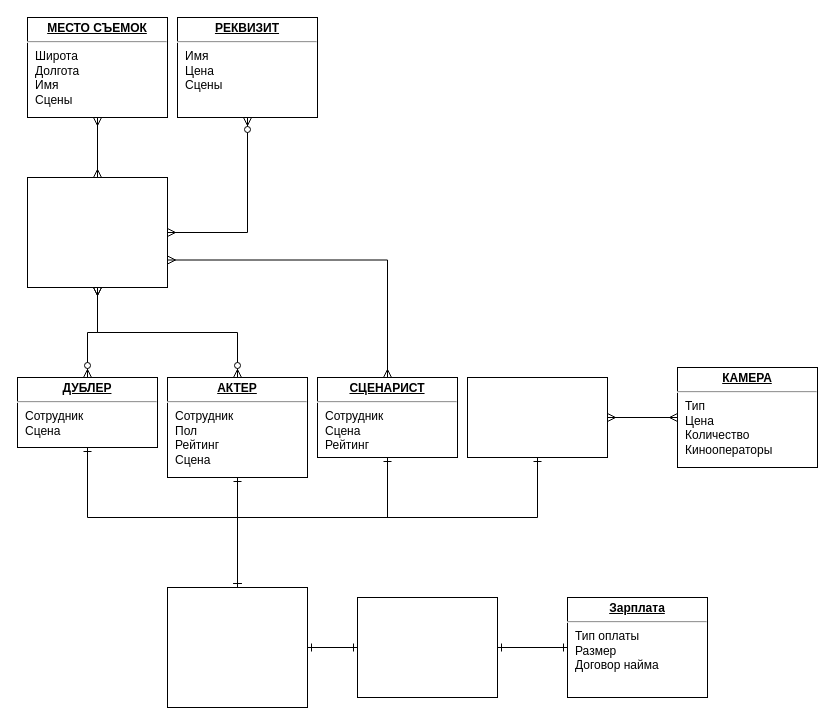
Some shapes in this 835 by 725 pixel diagram are drawn without their labels. Here are the shapes that lost their labels. From the top down, the centre of each, then its label:
[97,232]: СЦЕНА Актеры Дублеры Сценаристы Место съемок Реквизиты
[537,417]: КИНООПЕРАТОР Сотрудник Камеры
[237,647]: СОТРУДНИК Фамилия Имя Отчество (если есть) Договор найма Дата рождения Стаж
[427,647]: Договор найма Сотрудник Дата подписания Зарплата
